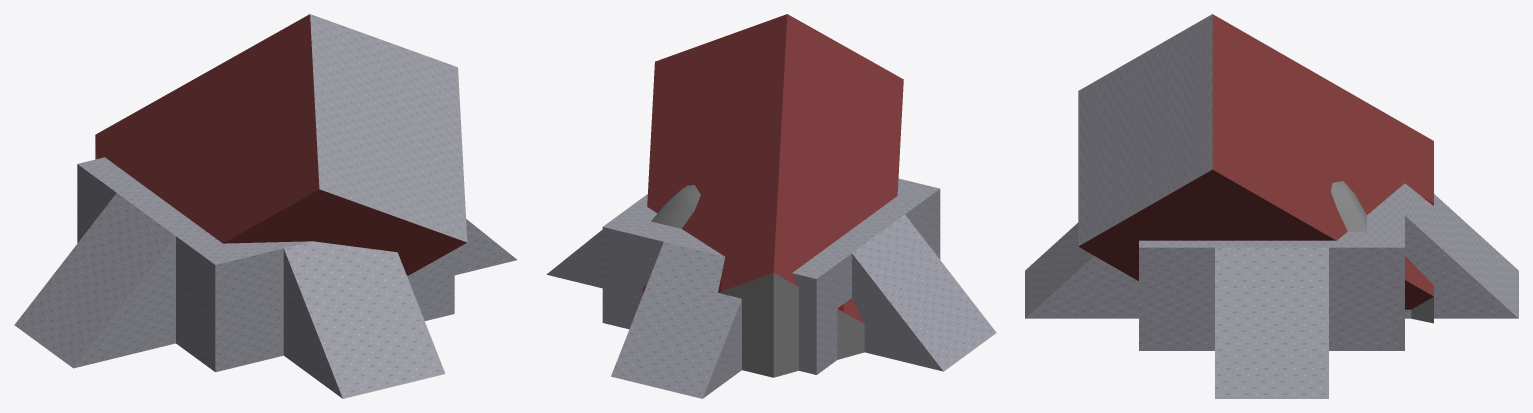
Rendered from Building_Destroied_House 1.fbx.
The picture shows the model from 3 angles, left to right: view 1: azimuth 30°, elevation 25°; view 2: azimuth 150°, elevation 25°; view 3: azimuth 270°, elevation 25°; orthographic projection. The views are drawn at different scales.
Parts seen in each view (by area): view 1: Building_House001, Building_Base001; view 2: Building_House001, Building_Base001, Pile_Building001, Pile001; view 3: Building_House001, Building_Base001, Pile001.
Part boxes in pixels (x1,y1,x2,y2): Building_House001: [95, 14, 467, 275]; Building_Base001: [14, 157, 516, 398]; Building_House001: [642, 14, 903, 323]; Building_Base001: [546, 178, 996, 398]; Pile_Building001: [718, 273, 864, 377]; Pile001: [651, 185, 700, 228]; Building_House001: [1078, 14, 1433, 309]; Building_Base001: [1025, 183, 1518, 398]; Pile001: [1331, 181, 1366, 231].
Bounding box in the file's own units: 2600 × 1667 × 2600.
